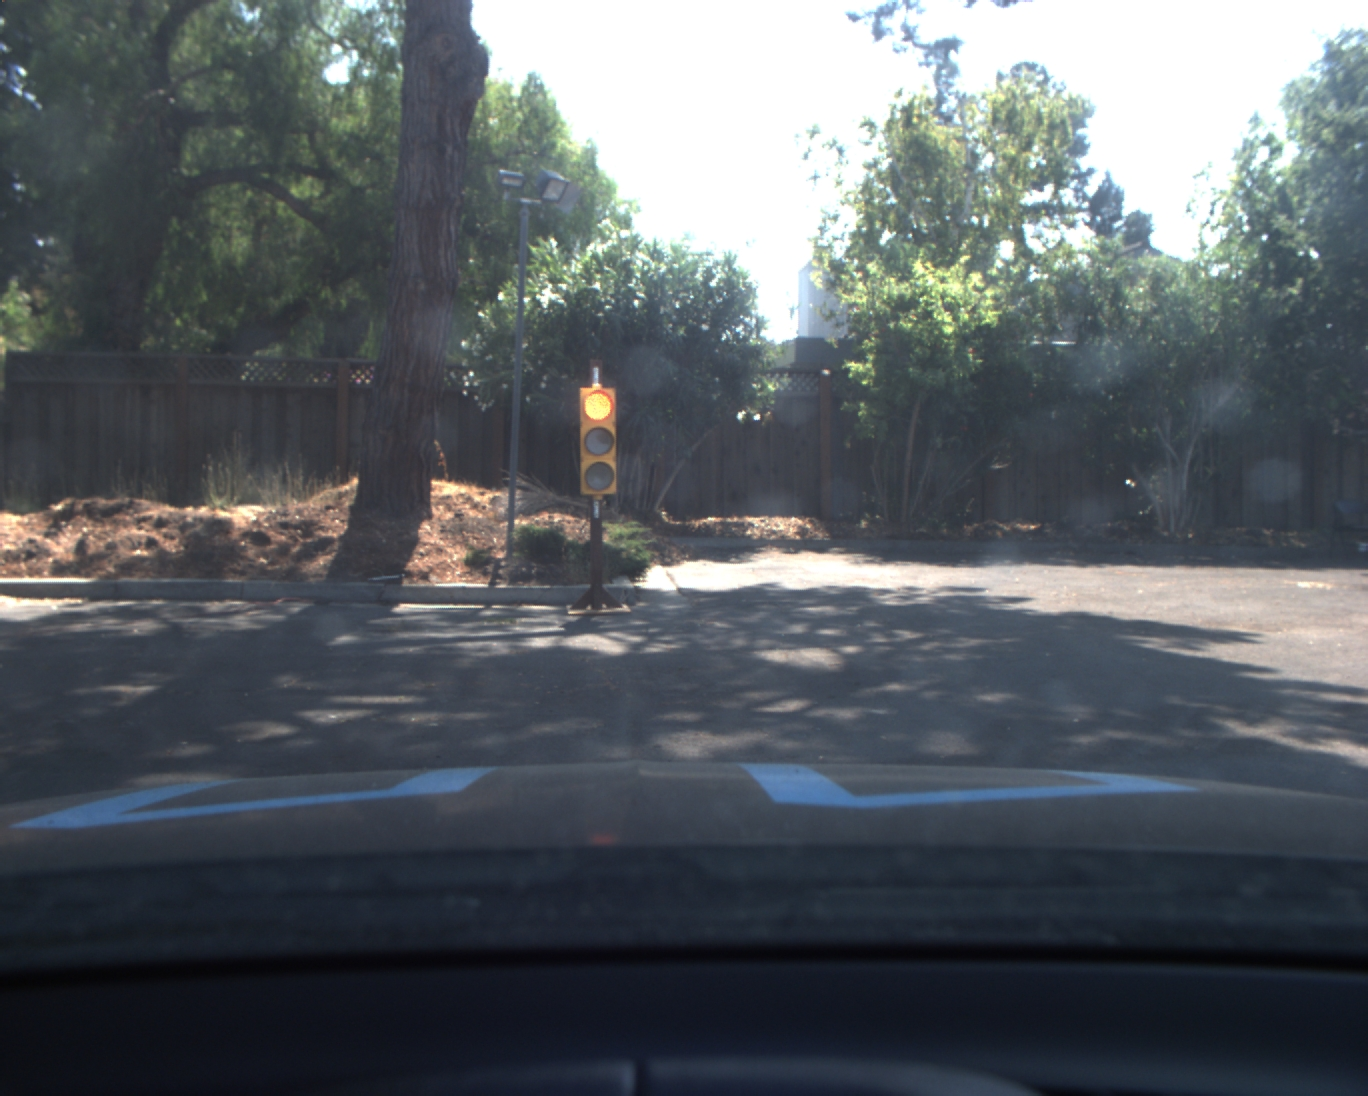red: (583, 387, 617, 495)
